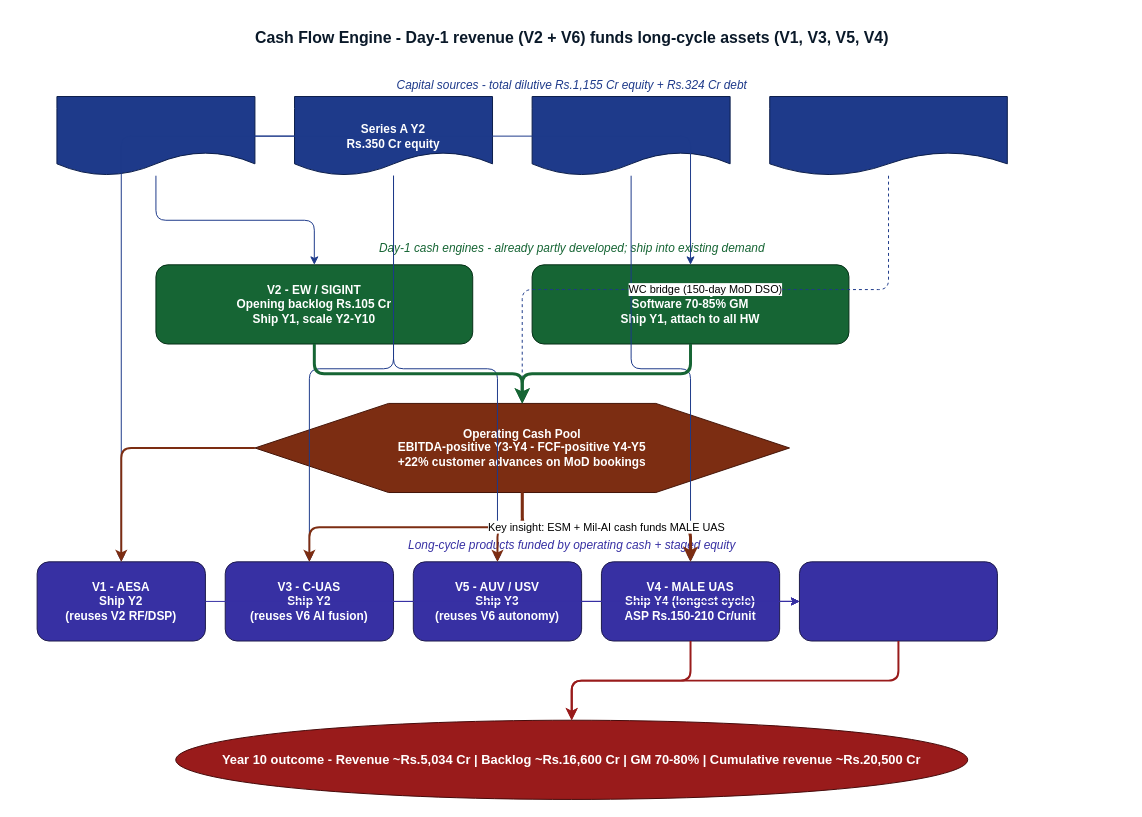
Image size: 1142x817. Some labels were removed from this diagram. The centre of each missing label's shape, as x and y in pixels:
Allied / FMS Exports Y5+ contribution DCS variants from Day 1: point 897,601
Seed Y1 Rs.680 Cr equity: point 155,136
Series B Y3 Rs.125 Cr equity: point 630,136
Venture / Term Debt Y1-Y3: Rs.324 Cr (Rs.100 Cr PSU TL on land collateral): point 888,136
